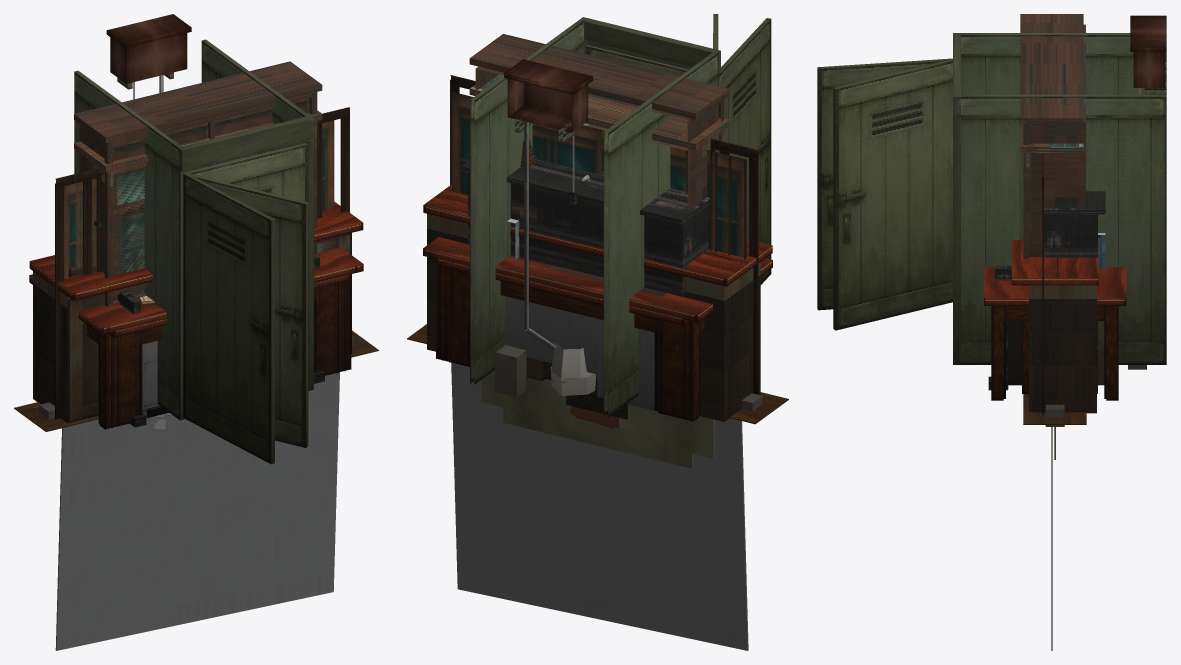
File: upper_b.glb
3 views of the same model, side by side, from view 1: azimuth 30°, elevation 25°; view 2: azimuth 150°, elevation 25°; view 3: azimuth 270°, elevation 25° (orthographic). The views are drawn at different scales.
Visible parts, largest first — view 1: prop_screen_roll, prop_toilet_stall-0, prop_toilet_stall-3-end, prop_shelf_lab-4, prop_table-counter-1, prop_toilet_stall-2, prop_table-work-0, prop_specimen_shelf-2, prop_table-work-2, prop_table-reading-1, prop_sash-20-16-2, prop_toilet_stall-0-end (+7 smaller); view 2: prop_screen_roll, prop_toilet_stall-0, prop_piano, prop_table-counter-1, prop_toilet_stall-0-end, prop_shelf_lab-4, prop_table-work-0, prop_stained_wall-0, prop_toilet_stall-3-end, prop_staffdesk-3, prop_table-work-2, prop_table-reading-1 (+12 smaller); view 3: prop_toilet_stall-0-end, prop_toilet_stall-2, prop_shelf_lab-4, prop_toilet_stall-0, prop_table-counter-1, prop_table-work-2, prop_toilet_stall-3-end, prop_piano, prop_teacherdesk-0, prop_specimen_shelf-2, prop_table-work-0, prop_worn_floor-2 (+2 smaller).
Boxes of the visible parts, x1,y1,x2,y2 form: prop_screen_roll: (39, 336, 353, 650); prop_toilet_stall-0: (74, 14, 313, 420); prop_toilet_stall-3-end: (183, 174, 274, 464); prop_shelf_lab-4: (74, 61, 322, 306); prop_table-counter-1: (29, 201, 363, 423); prop_toilet_stall-2: (184, 173, 308, 447); prop_table-work-0: (85, 249, 357, 428); prop_specimen_shelf-2: (74, 110, 322, 306); prop_table-work-2: (29, 247, 363, 429); prop_table-reading-1: (109, 274, 350, 426); prop_sash-20-16-2: (55, 107, 349, 419); prop_toilet_stall-0-end: (201, 39, 311, 150); prop_screen_roll: (451, 362, 762, 650); prop_toilet_stall-0: (495, 17, 720, 416); prop_piano: (461, 139, 709, 391); prop_table-counter-1: (423, 184, 772, 421); prop_toilet_stall-0-end: (470, 19, 585, 384); prop_shelf_lab-4: (469, 34, 729, 210); prop_table-work-0: (429, 238, 705, 420); prop_stained_wall-0: (503, 377, 692, 468); prop_toilet_stall-3-end: (719, 18, 771, 284); prop_staffdesk-3: (505, 218, 654, 410); prop_table-work-2: (423, 237, 772, 421); prop_table-reading-1: (436, 258, 690, 418); prop_toilet_stall-0-end: (957, 94, 1166, 364); prop_toilet_stall-2: (833, 59, 952, 330); prop_shelf_lab-4: (1020, 14, 1085, 394); prop_toilet_stall-0: (953, 15, 1166, 369); prop_table-counter-1: (1011, 240, 1098, 413); prop_table-work-2: (984, 267, 1126, 400); prop_toilet_stall-3-end: (817, 58, 952, 310); prop_piano: (988, 191, 1105, 393); prop_teacherdesk-0: (1008, 267, 1106, 385); prop_specimen_shelf-2: (1020, 126, 1085, 394); prop_table-work-0: (984, 267, 1126, 306); prop_worn_floor-2: (1023, 394, 1086, 424).
Size of the model in its own units: 2.4 by 3.86 by 2.21.
85 materials, 85 textured.
